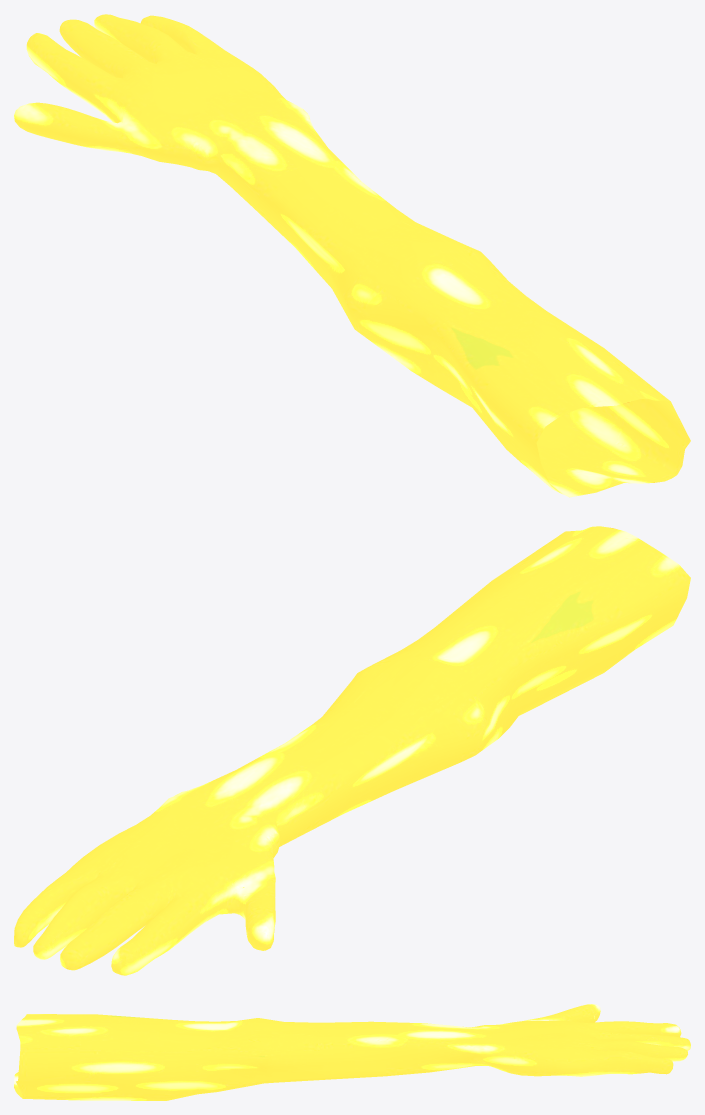
File: BurnedHand.fbx
3 renders of one model, top to bottom at view 1: azimuth 30°, elevation 25°; view 2: azimuth 150°, elevation 25°; view 3: azimuth 270°, elevation 25°, orthographic. The views are drawn at different scales.
Parts seen in each view (by area): view 1: BurnedHand_Baked; view 2: BurnedHand_Baked; view 3: BurnedHand_Baked.
Boxes of the visible parts, x1,y1,x2,y2 form: BurnedHand_Baked: (14, 14, 690, 497); BurnedHand_Baked: (14, 526, 690, 975); BurnedHand_Baked: (14, 1004, 690, 1100).
Size of the model in its own units: 279 by 140 by 1241.
1 material, 1 textured.
